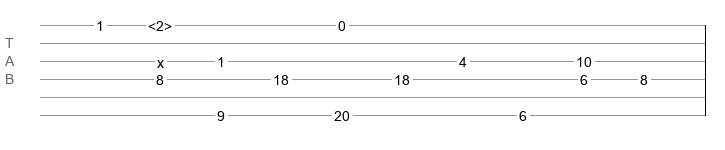0: (338, 18, 346, 28)
1: (96, 18, 104, 28), (217, 54, 225, 64)
10: (576, 54, 592, 64)
18: (273, 72, 289, 82), (394, 72, 410, 82)
20: (334, 108, 350, 118)
4: (459, 54, 467, 64)
6: (519, 108, 527, 118), (580, 72, 588, 82)
8: (156, 72, 164, 82), (640, 72, 648, 82)
9: (217, 108, 225, 118)
harmonic: (148, 18, 172, 28)
x: (157, 55, 164, 63)
